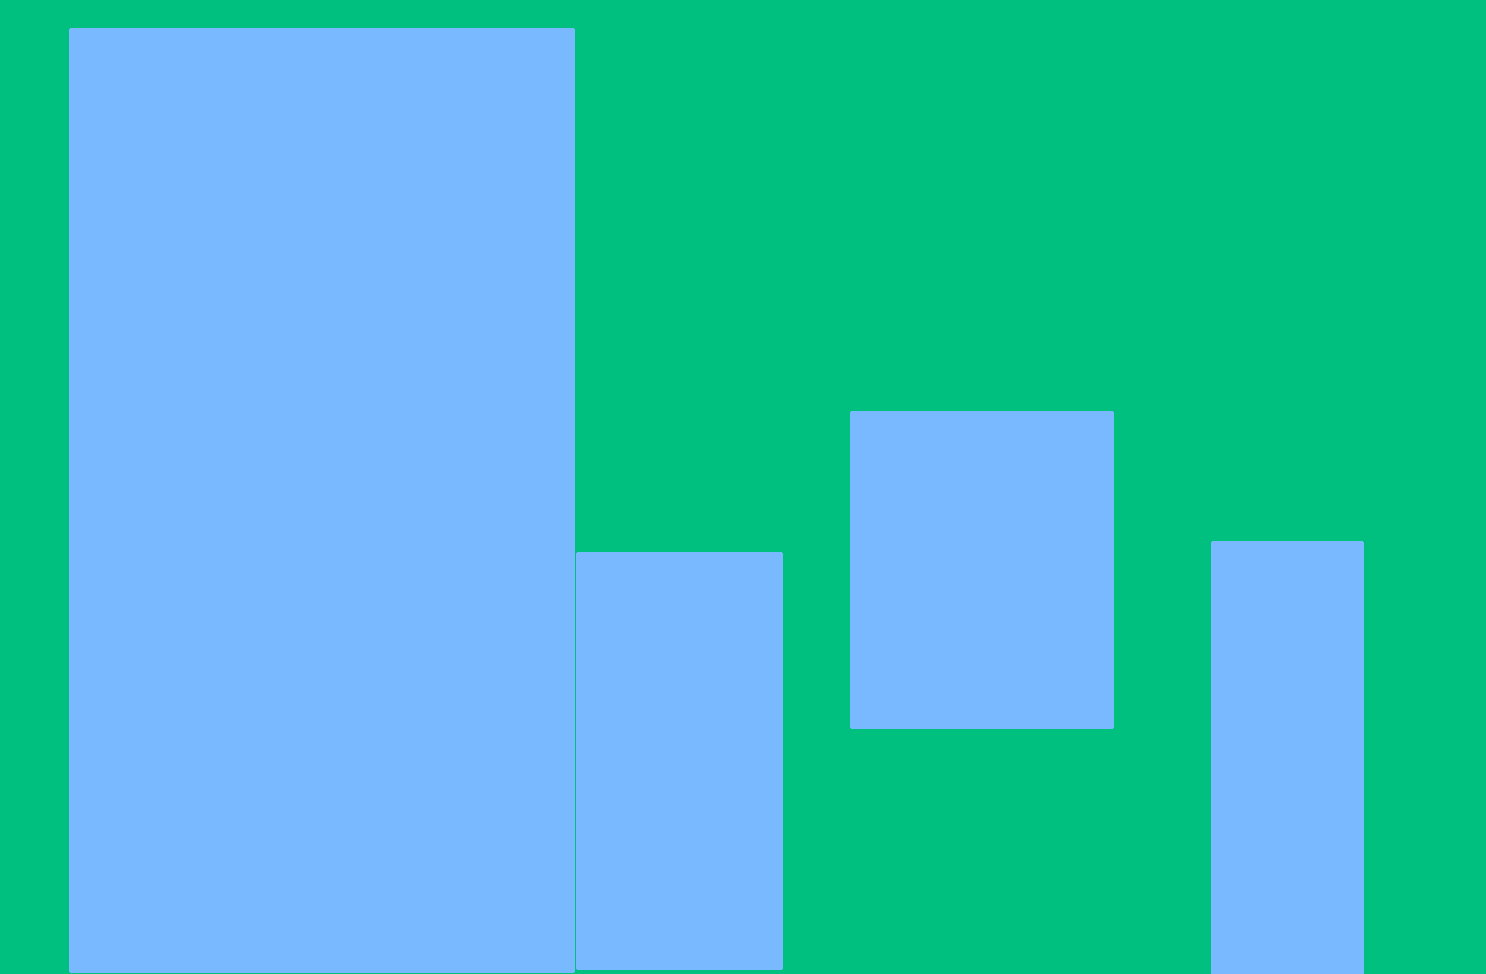Text_area: (70, 29, 573, 971), (577, 553, 781, 967), (851, 412, 1112, 727), (1212, 542, 1362, 974)
